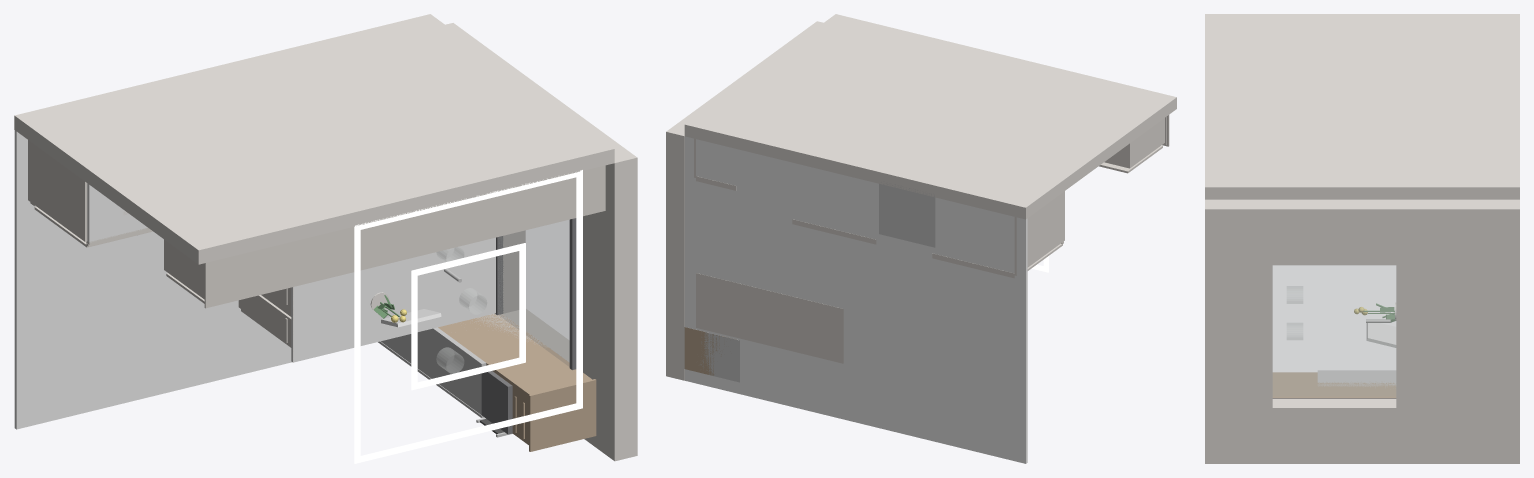
File: kitchen-test.glb
The picture shows the model from 3 angles, left to right: view 1: azimuth 30°, elevation 25°; view 2: azimuth 150°, elevation 25°; view 3: azimuth 270°, elevation 25°; orthographic projection. The views are drawn at different scales.
Parts seen in each view (by area): view 1: ARC_Wall_N_Kitchen, ARC_Floor_r02_kitchen, FUR_r02_cab_upper_crown_step, FUR_r02_bar_counter, ARC_Wall_E_Lintel, ARC_Win_W_KIT_OUTER_Glass, FUR_r02_cab_tall, FUR_r02_fridge, ARC_Wall_E_PierS, ARC_Wall_E_PierN, FUR_r02_cab_lower_n_sideW, FUR_r02_cab_tall_crown (+14 smaller); view 2: ARC_Floor_r02_kitchen, ARC_Wall_N_Kitchen, FUR_r02_bar_body, FUR_r02_dishwasher, ARC_Wall_E_Sill, ARC_Wall_E_PierN, FUR_r02_cab_lower_n_sideW, FUR_r02_fridge, FUR_r02_cab_tall, ARC_Wall_E_PierS, FUR_r02_cab_upper_sideW; view 3: ARC_Wall_N_Kitchen, ARC_Wall_E_PierN, ARC_Wall_E_PierS, ARC_Wall_E_Sill, ARC_Win_W_KIT_OUTER_Glass, ARC_Wall_E_Lintel, FUR_r02_cab_tall, FUR_r02_fridge, DEC_r02_boards_1.
Boxes of the visible parts, bbox=[...] form: ARC_Wall_N_Kitchen: bbox=[14, 14, 614, 264]; ARC_Floor_r02_kitchen: bbox=[14, 130, 291, 429]; FUR_r02_cab_upper_crown_step: bbox=[204, 165, 605, 308]; FUR_r02_bar_counter: bbox=[291, 237, 495, 362]; ARC_Wall_E_Lintel: bbox=[583, 213, 637, 395]; ARC_Win_W_KIT_OUTER_Glass: bbox=[498, 220, 569, 366]; FUR_r02_cab_tall: bbox=[438, 314, 591, 444]; FUR_r02_fridge: bbox=[381, 313, 547, 414]; ARC_Wall_E_PierS: bbox=[503, 309, 637, 461]; ARC_Wall_E_PierN: bbox=[445, 23, 637, 228]; FUR_r02_cab_lower_n_sideW: bbox=[28, 140, 87, 241]; FUR_r02_cab_tall_crown: bbox=[529, 379, 596, 451]; ARC_Floor_r02_kitchen: bbox=[685, 136, 1027, 463]; ARC_Wall_N_Kitchen: bbox=[684, 14, 1176, 219]; FUR_r02_bar_body: bbox=[696, 273, 843, 363]; FUR_r02_dishwasher: bbox=[879, 181, 935, 247]; ARC_Wall_E_Sill: bbox=[666, 185, 684, 326]; ARC_Wall_E_PierN: bbox=[666, 21, 823, 189]; FUR_r02_cab_lower_n_sideW: bbox=[1014, 191, 1064, 275]; FUR_r02_fridge: bbox=[693, 329, 739, 382]; FUR_r02_cab_tall: bbox=[684, 327, 724, 375]; ARC_Wall_E_PierS: bbox=[666, 322, 684, 380]; FUR_r02_cab_upper_sideW: bbox=[1128, 118, 1164, 168]; ARC_Wall_N_Kitchen: bbox=[1205, 14, 1519, 199]; ARC_Wall_E_PierN: bbox=[1205, 199, 1519, 265]; ARC_Wall_E_PierS: bbox=[1205, 399, 1519, 463]; ARC_Wall_E_Sill: bbox=[1396, 265, 1519, 407]; ARC_Win_W_KIT_OUTER_Glass: bbox=[1273, 265, 1395, 397]; ARC_Wall_E_Lintel: bbox=[1205, 265, 1272, 407]; FUR_r02_cab_tall: bbox=[1272, 372, 1396, 398]; FUR_r02_fridge: bbox=[1317, 370, 1396, 386]; DEC_r02_boards_1: bbox=[1366, 323, 1396, 347].
Size of the model in its own units: 3.85 by 2.62 by 2.8.
